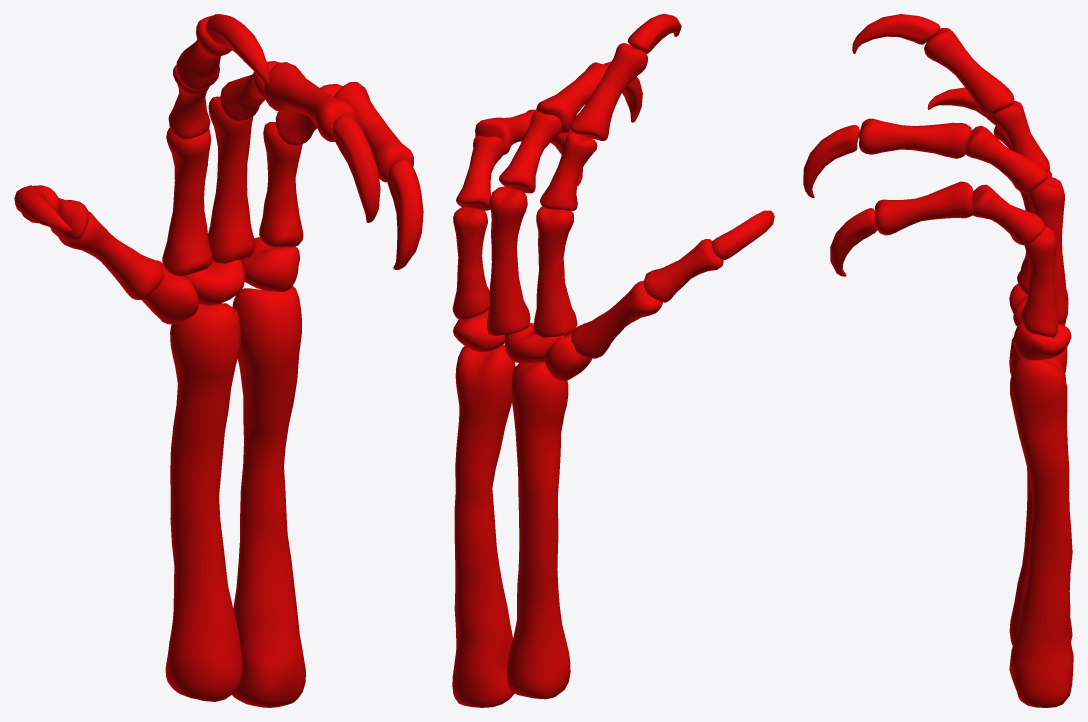
File: Env_DragonSkeleton_Hand.fbx
The picture shows the model from 3 angles, left to right: view 1: azimuth 30°, elevation 25°; view 2: azimuth 150°, elevation 25°; view 3: azimuth 270°, elevation 25°; orthographic projection. The views are drawn at different scales.
Parts seen in each view (by area): view 1: bras_low, claw_low; view 2: bras_low, claw_low; view 3: bras_low, claw_low.
Boxes of the visible parts, <box> form: bras_low: <box>21,15,413,707</box>; claw_low: <box>14,14,423,269</box>; bras_low: <box>452,43,723,707</box>; claw_low: <box>550,14,774,260</box>; bras_low: <box>859,28,1073,707</box>; claw_low: <box>803,14,995,276</box>.
Size of the model in its own units: 177 by 382 by 147.
